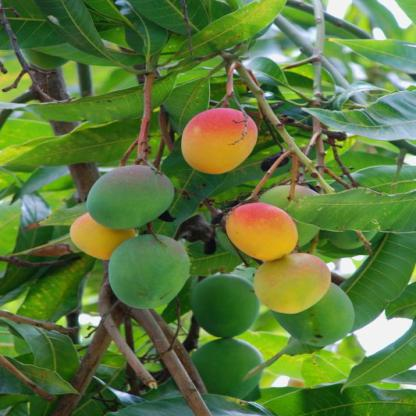mango: (180, 107, 257, 175), (221, 200, 300, 264), (253, 251, 331, 314), (68, 210, 136, 260)
